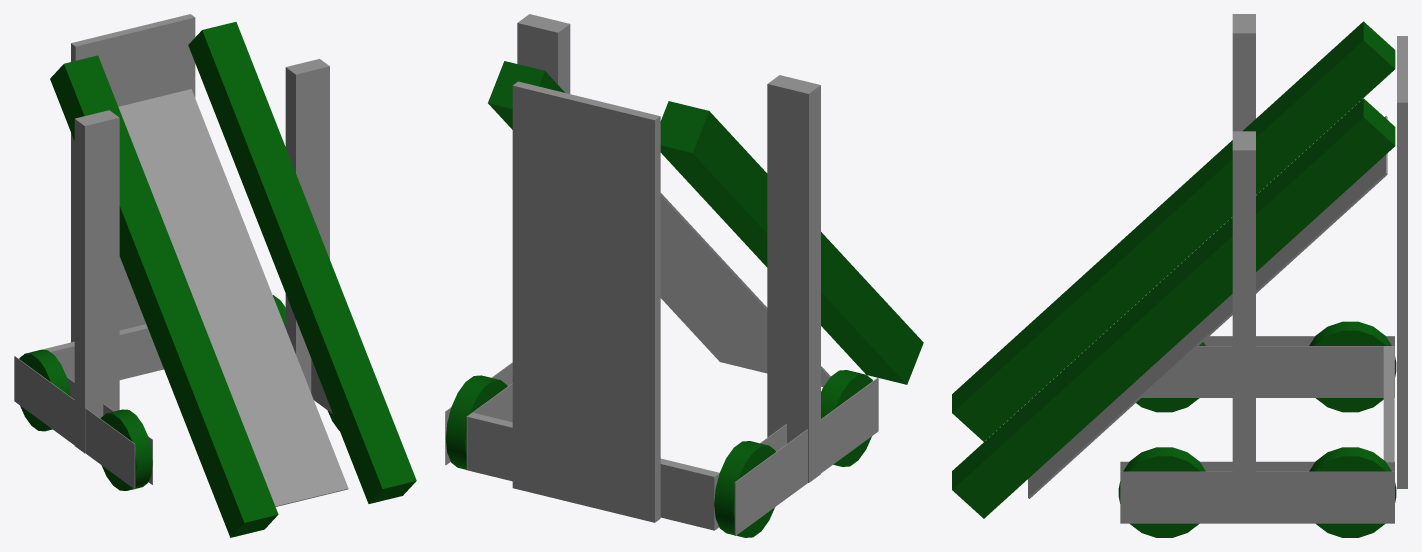
Rendered from vconveyor.FBX.
The picture shows the model from 3 angles, left to right: view 1: azimuth 30°, elevation 25°; view 2: azimuth 150°, elevation 25°; view 3: azimuth 270°, elevation 25°; orthographic projection. The views are drawn at different scales.
Visible parts, largest first — view 1: Box012, Box009, Box008, Box013, Box010, Box007, Box004, Box006, Box011, Box002, Cylinder003, Cylinder004; view 2: Box013, Box008, Box010, Box012, Box007, Box004, Box002, Cylinder004, Cylinder002, Box006, Box009, Cylinder003 (+2 smaller); view 3: Box008, Box009, Box003, Box001, Box011, Box012, Box013, Box007, Cylinder001, Cylinder002, Cylinder004, Box002 (+3 smaller).
Part boxes in pixels (x1=…): Box012: x1=118, y1=89, x2=348, y2=506; Box009: x1=188, y1=22, x2=416, y2=503; Box008: x1=50, y1=55, x2=278, y2=537; Box013: x1=71, y1=14, x2=195, y2=342; Box010: x1=74, y1=114, x2=102, y2=453; Box007: x1=93, y1=110, x2=119, y2=416; Box004: x1=14, y1=356, x2=135, y2=489; Box006: x1=285, y1=63, x2=312, y2=392; Box011: x1=302, y1=59, x2=329, y2=259; Box002: x1=42, y1=324, x2=163, y2=381; Cylinder003: x1=100, y1=409, x2=152, y2=490; Cylinder004: x1=19, y1=349, x2=70, y2=431; Box013: x1=512, y1=81, x2=660, y2=522; Box008: x1=660, y1=101, x2=923, y2=384; Box010: x1=787, y1=80, x2=820, y2=482; Box012: x1=660, y1=193, x2=830, y2=386; Box007: x1=767, y1=75, x2=799, y2=443; Box004: x1=734, y1=377, x2=878, y2=535; Box002: x1=467, y1=412, x2=719, y2=530; Cylinder004: x1=714, y1=441, x2=775, y2=537; Cylinder002: x1=445, y1=375, x2=507, y2=469; Box006: x1=537, y1=19, x2=570, y2=93; Box009: x1=488, y1=61, x2=564, y2=129; Cylinder003: x1=821, y1=370, x2=872, y2=466; Box008: x1=952, y1=21, x2=1395, y2=441; Box009: x1=952, y1=98, x2=1395, y2=518; Box003: x1=1120, y1=471, x2=1394, y2=523; Box001: x1=1141, y1=346, x2=1394, y2=397; Box011: x1=1232, y1=141, x2=1255, y2=523; Box012: x1=1028, y1=116, x2=1387, y2=498; Box013: x1=1397, y1=36, x2=1407, y2=488; Box007: x1=1232, y1=24, x2=1255, y2=131; Cylinder001: x1=1118, y1=447, x2=1205, y2=537; Cylinder002: x1=1309, y1=447, x2=1396, y2=537; Cylinder004: x1=1309, y1=321, x2=1396, y2=412; Box002: x1=1383, y1=346, x2=1394, y2=471.
Bounding box in the file's own units: 0.3584 × 0.4921 × 0.506.
